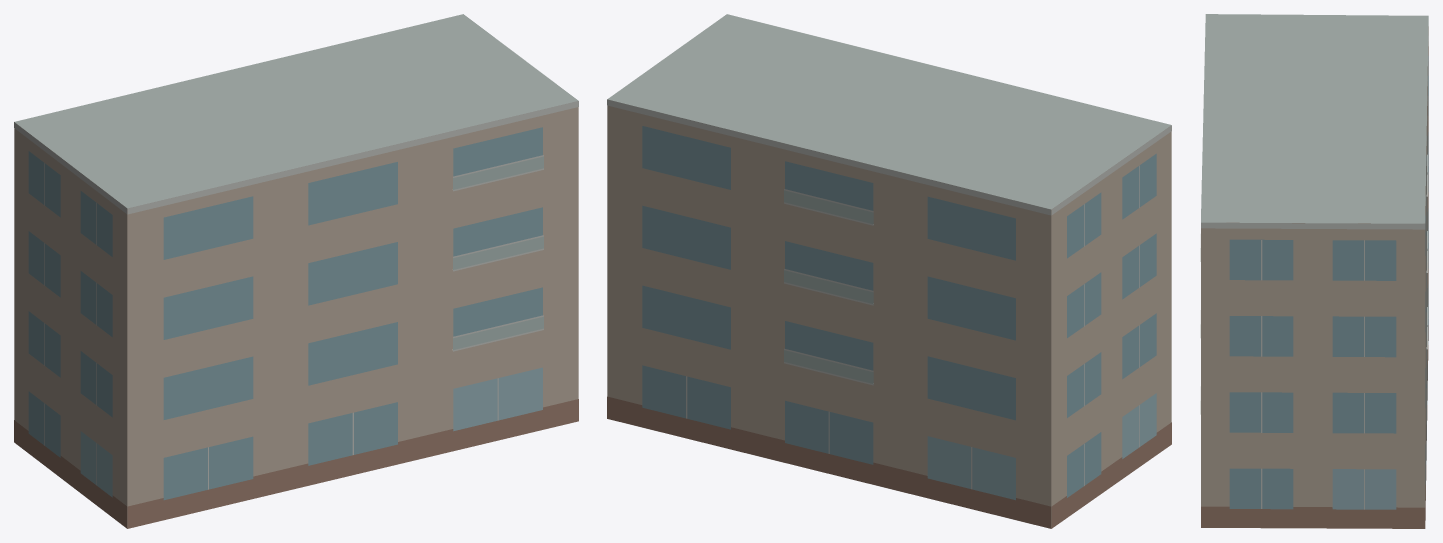
Rendered from survey-upis-33044818.glb.
3 views of the same model, side by side, from view 1: azimuth 30°, elevation 25°; view 2: azimuth 150°, elevation 25°; view 3: azimuth 270°, elevation 25° (orthographic). The views are drawn at different scales.
Visible parts, largest first — view 1: survey-upis-33044818.tmp; view 2: survey-upis-33044818.tmp; view 3: survey-upis-33044818.tmp.
Part boxes in pixels (left/top/right/bottom): survey-upis-33044818.tmp: left=14, top=14, right=578, bottom=528; survey-upis-33044818.tmp: left=607, top=14, right=1171, bottom=528; survey-upis-33044818.tmp: left=1200, top=14, right=1428, bottom=528.
Bounding box in the file's own units: 18.88 × 12.8 × 8.69.
